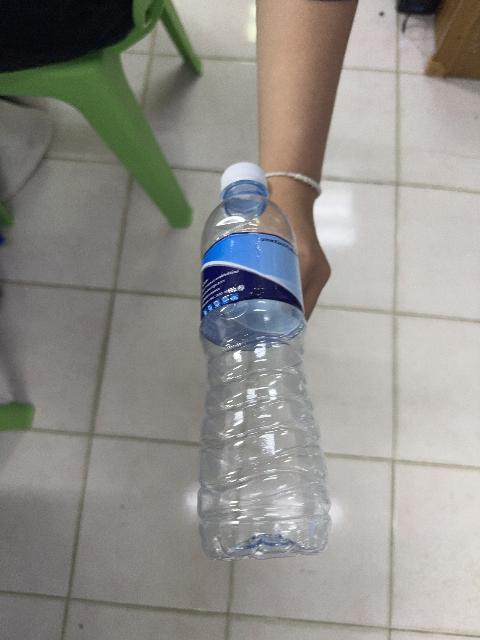bottle: (198, 163, 329, 559)
